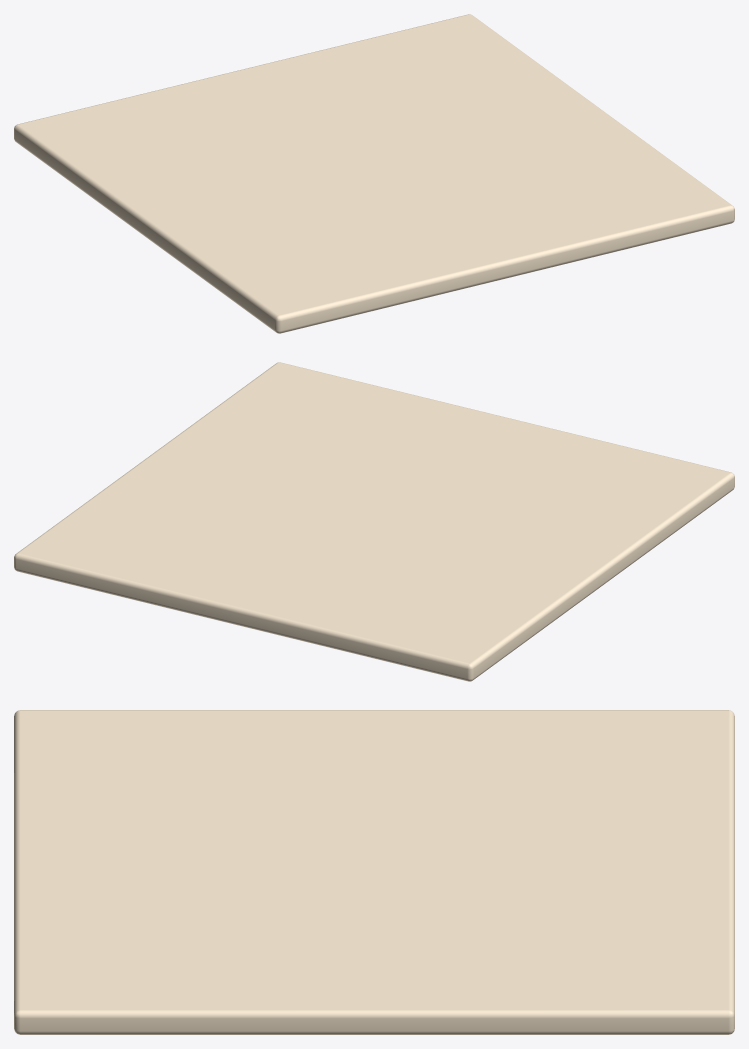
File: floor-tile-cream.glb
3 views of the same model, one above another, from view 1: azimuth 30°, elevation 25°; view 2: azimuth 150°, elevation 25°; view 3: azimuth 270°, elevation 25° (orthographic). The views are drawn at different scales.
Parts seen in each view (by area): view 1: Tile 0-0; view 2: Tile 0-0; view 3: Tile 0-0.
Part boxes in pixels (x1=…): Tile 0-0: x1=14, y1=14, x2=734, y2=333; Tile 0-0: x1=14, y1=362, x2=734, y2=681; Tile 0-0: x1=14, y1=710, x2=734, y2=1034.
Bounding box in the file's own units: 1.33 × 0.05 × 1.33.
